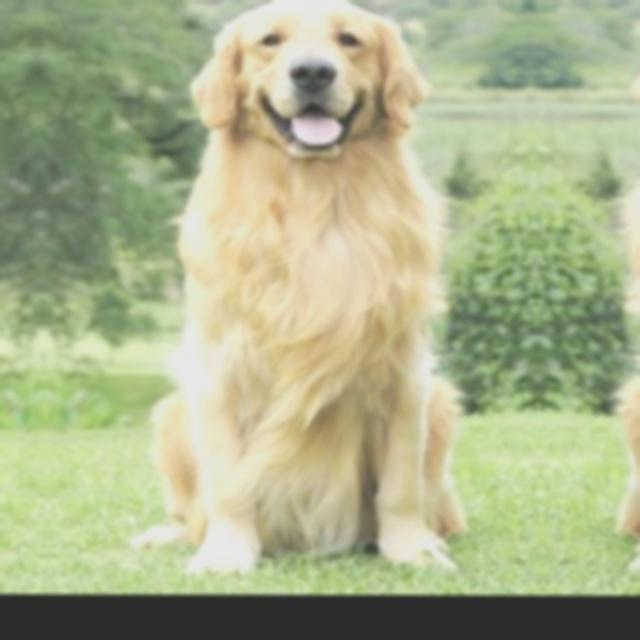dog: (86, 0, 499, 584), (575, 0, 640, 584)
